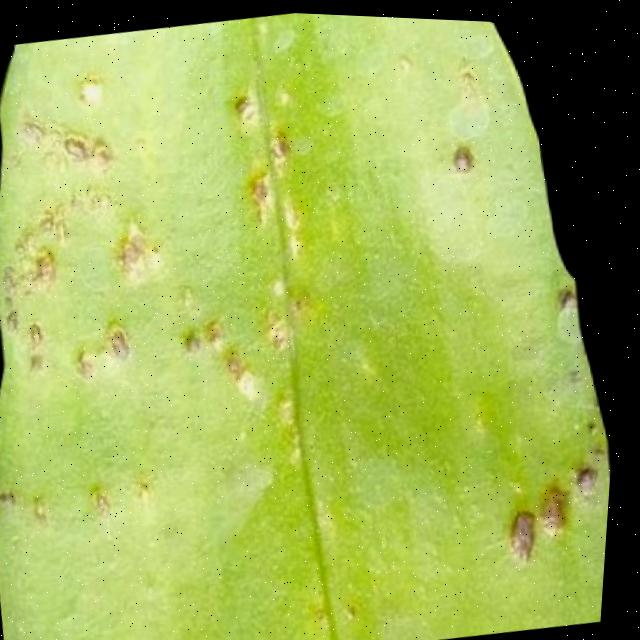mite: (0, 458, 172, 533), (507, 476, 585, 559), (74, 312, 144, 379), (62, 125, 120, 169), (0, 298, 17, 412), (446, 129, 488, 175), (111, 320, 139, 360), (95, 479, 123, 515), (64, 130, 93, 161), (454, 137, 481, 168), (581, 455, 608, 486)
spots: (0, 10, 620, 640)
